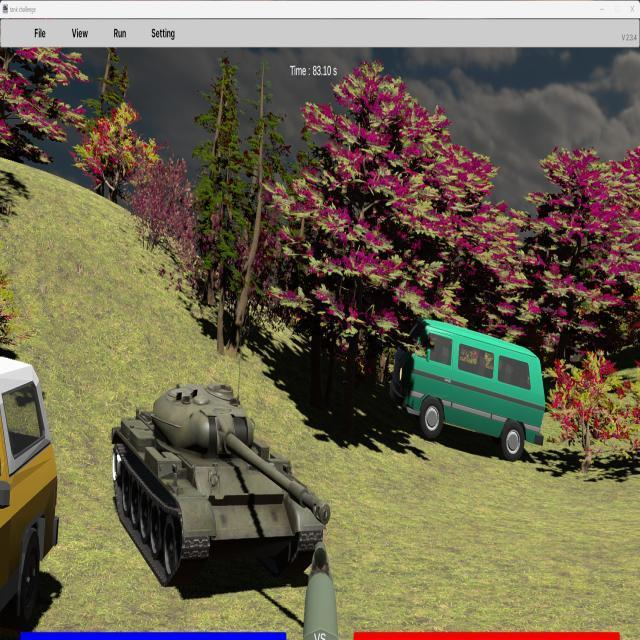Tank: (111, 381, 331, 588)
car: (390, 319, 546, 461), (389, 318, 546, 458), (0, 344, 59, 640), (0, 347, 58, 640)
